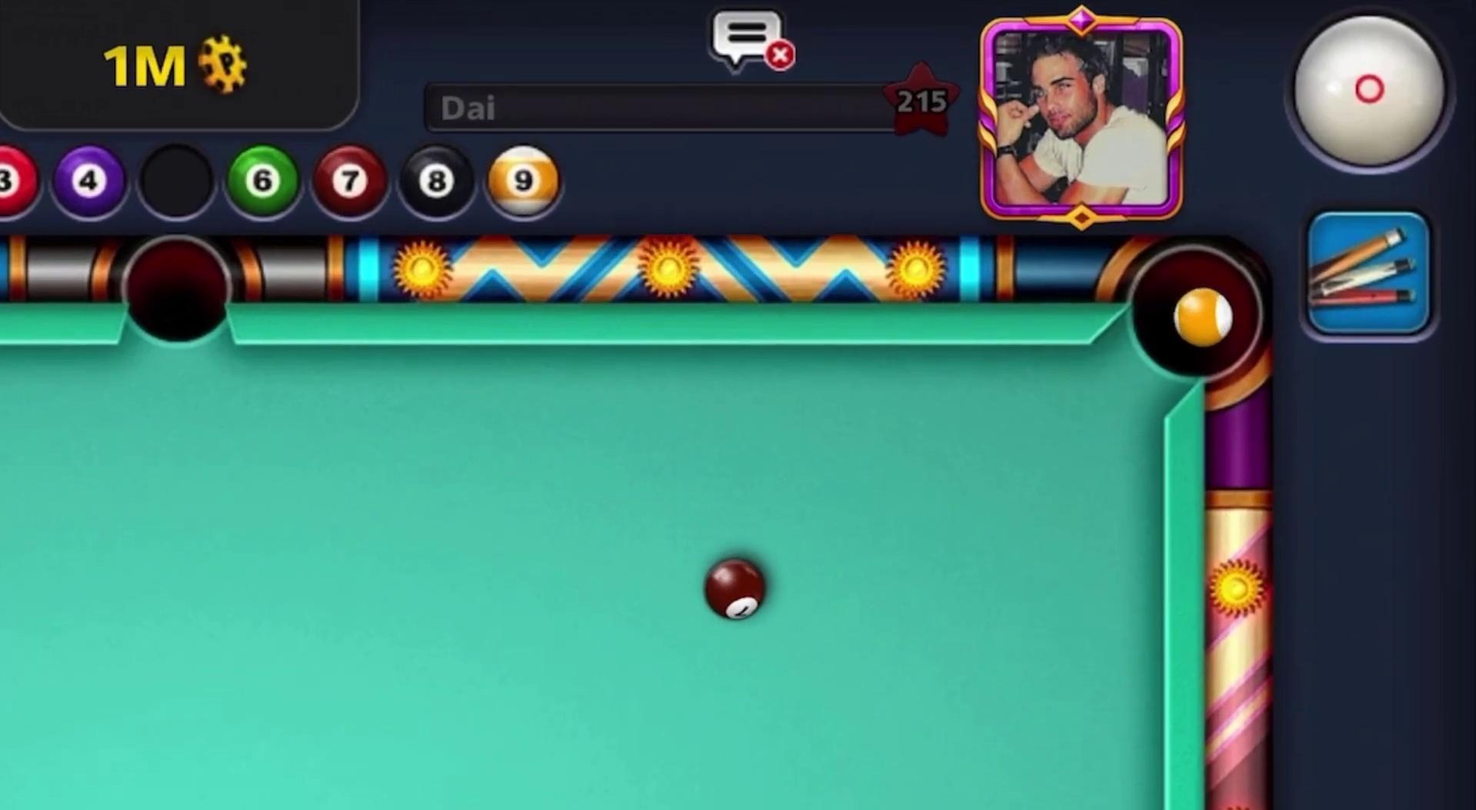Ball: (1153, 270, 1243, 366), (697, 550, 779, 629)
Hole: (1088, 224, 1278, 417), (112, 218, 236, 356)
Play_Area: (5, 343, 1159, 808)
Spin: (1267, 0, 1468, 192)
